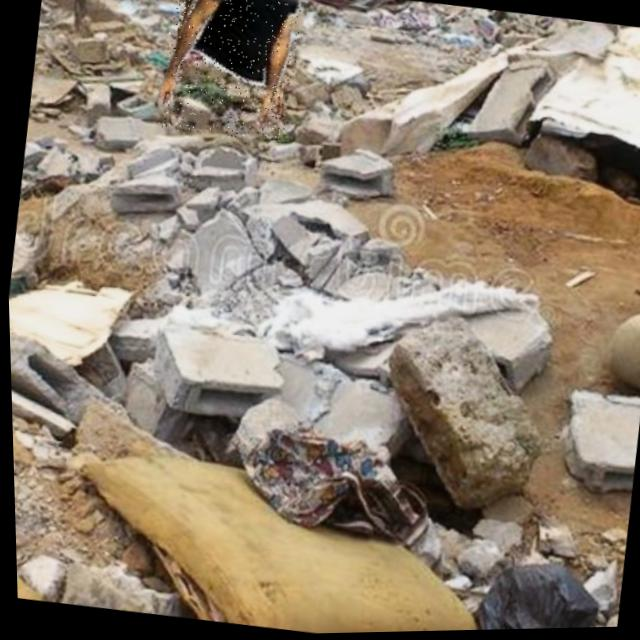Person in Rubble: (154, 0, 307, 147)
